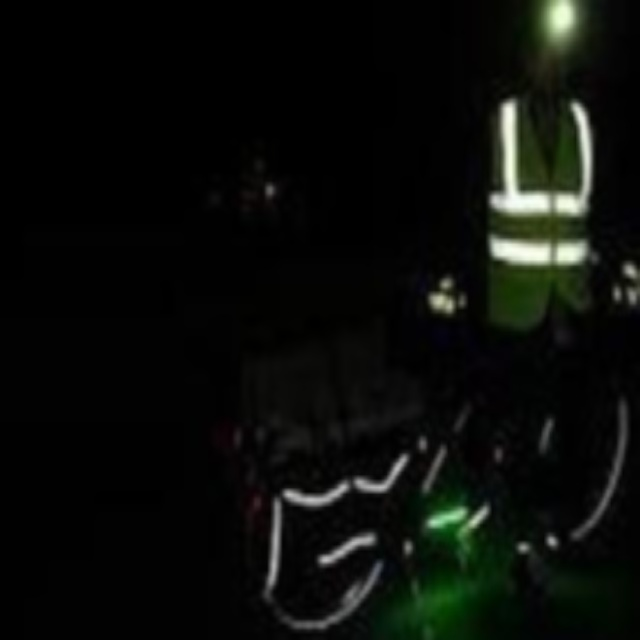Con_Chaleco: (489, 97, 595, 327)
